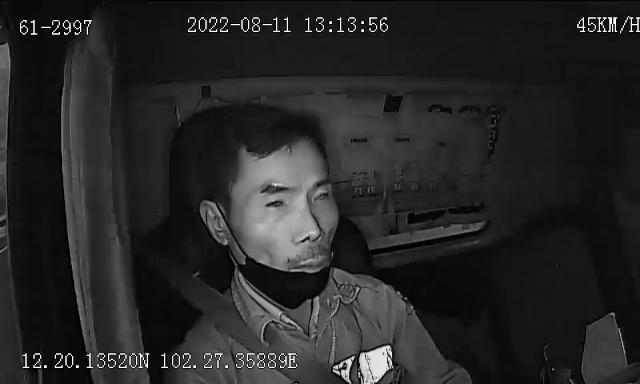SafeDriving: (418, 96, 476, 122), (418, 95, 459, 121), (307, 181, 336, 208), (260, 190, 294, 212)
Seatbelt: (148, 234, 350, 384)
